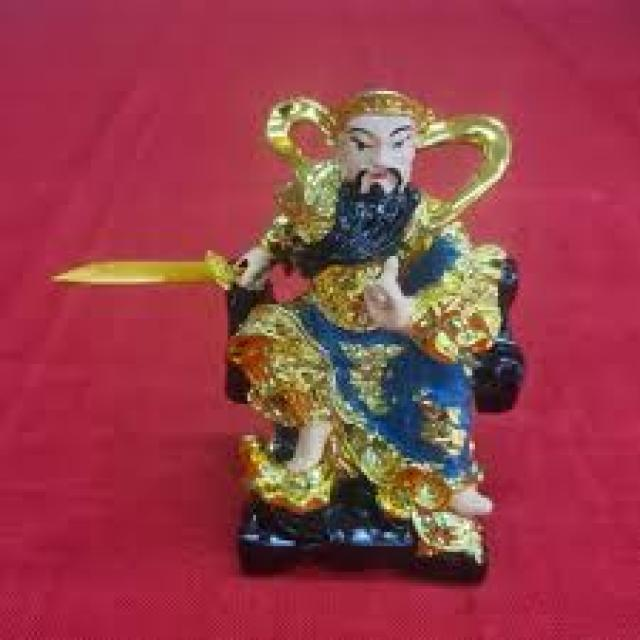Xuan wu: (243, 86, 503, 532)
